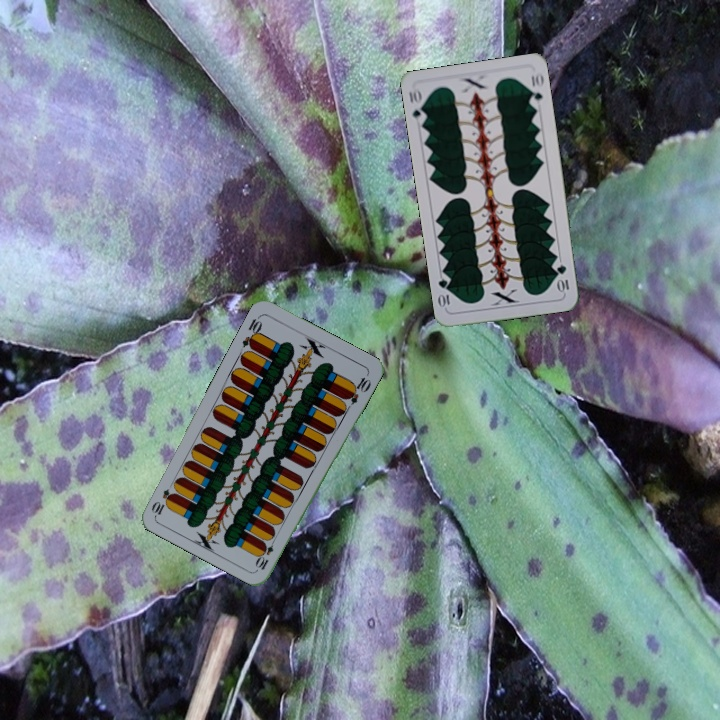E10: (238, 312, 265, 352), (253, 533, 278, 572)
G10: (405, 86, 428, 126), (553, 260, 571, 295)
